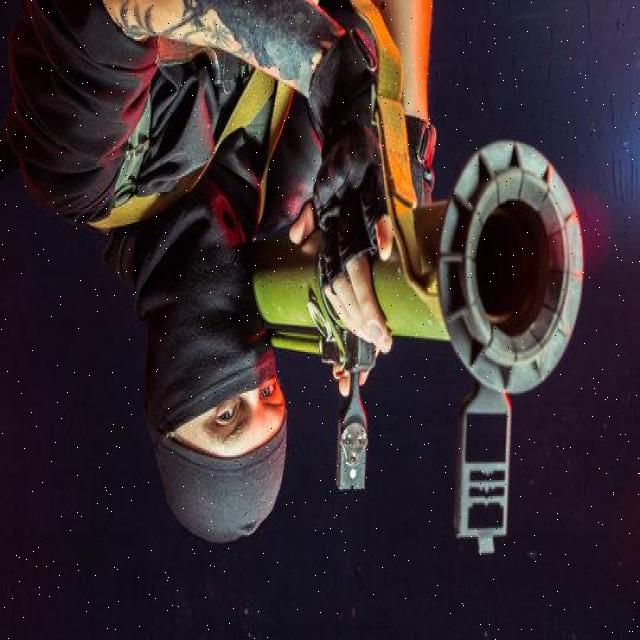bazooka: (247, 128, 587, 575)
